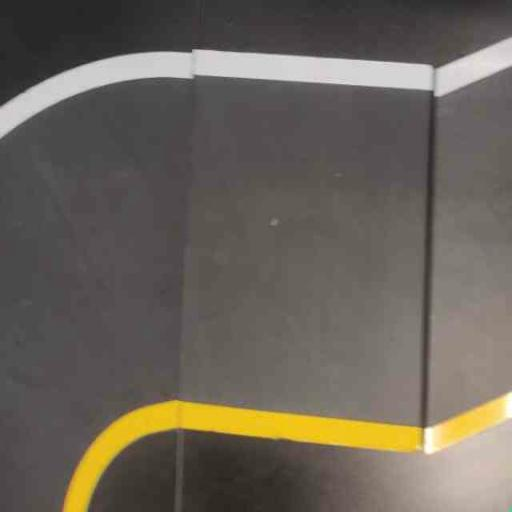crossleft: (421, 15, 511, 473)
